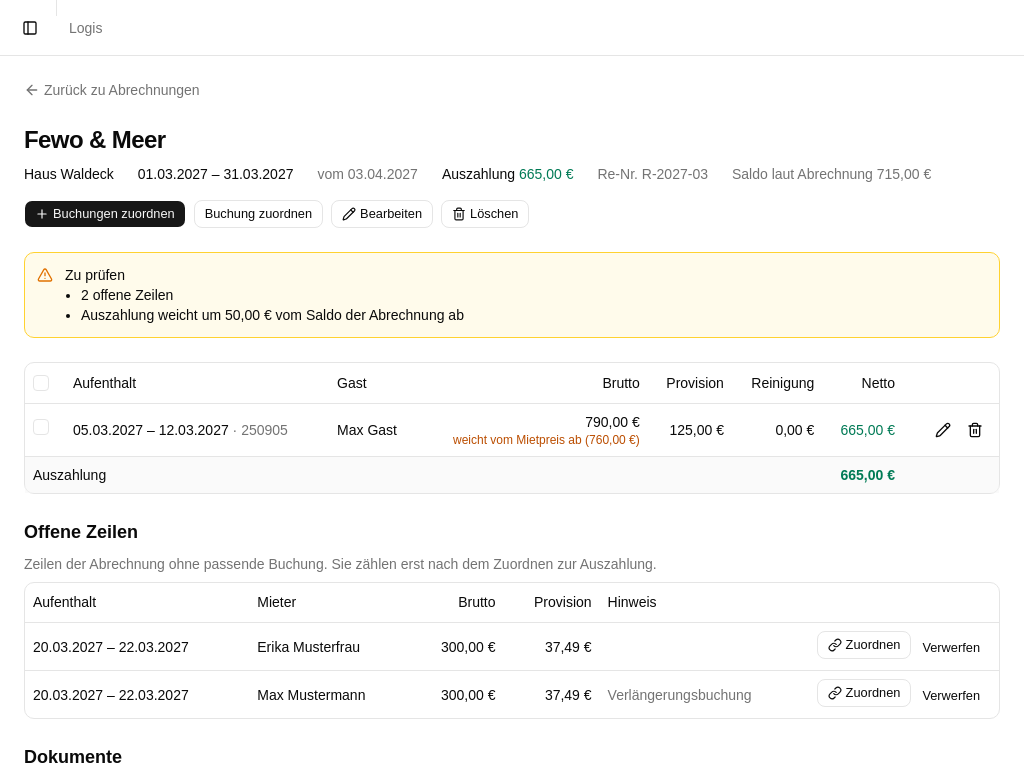
Test: Imported statements › assigns an open line to the booking with its period and discards another
The image size is (1024, 768).
Expected: the text "Verlängerungsbuchung" is shown, [600,671,809,718]
Click the button with aria-label "Erika Musterfrau zuordnen": (864, 645) [817,631,911,659]
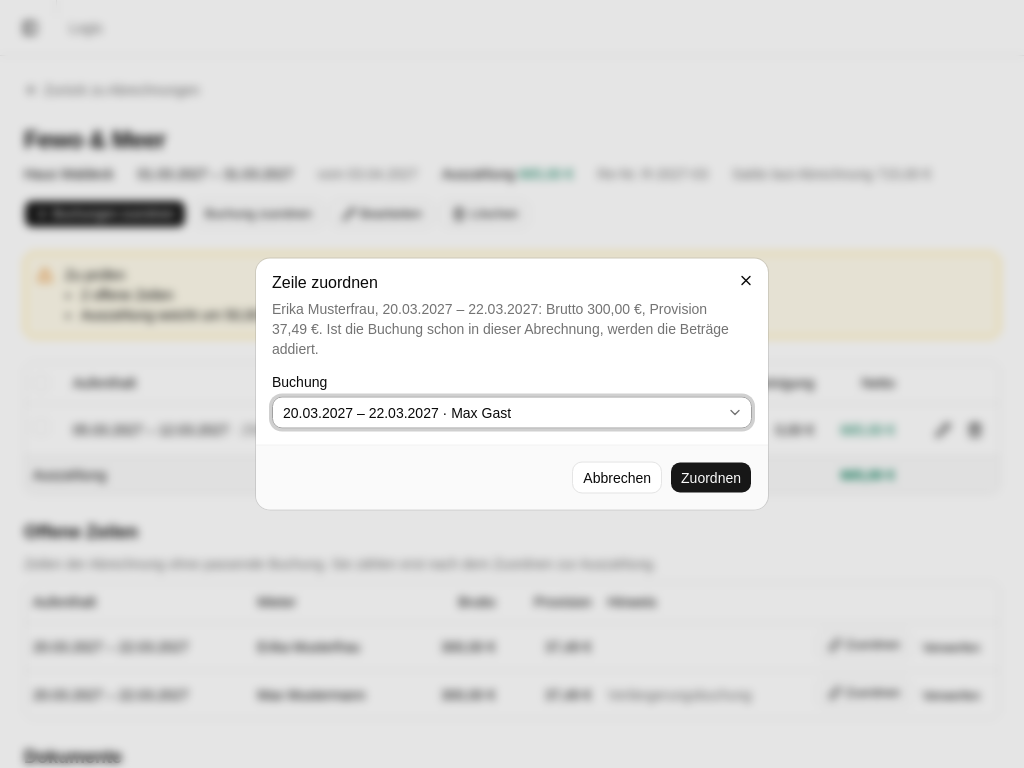
Now the dropdown named "Buchung" shows "20.03.2027 – 22.03.2027"
Click the dropdown named "Buchung": (512, 412) [272,396,752,428]
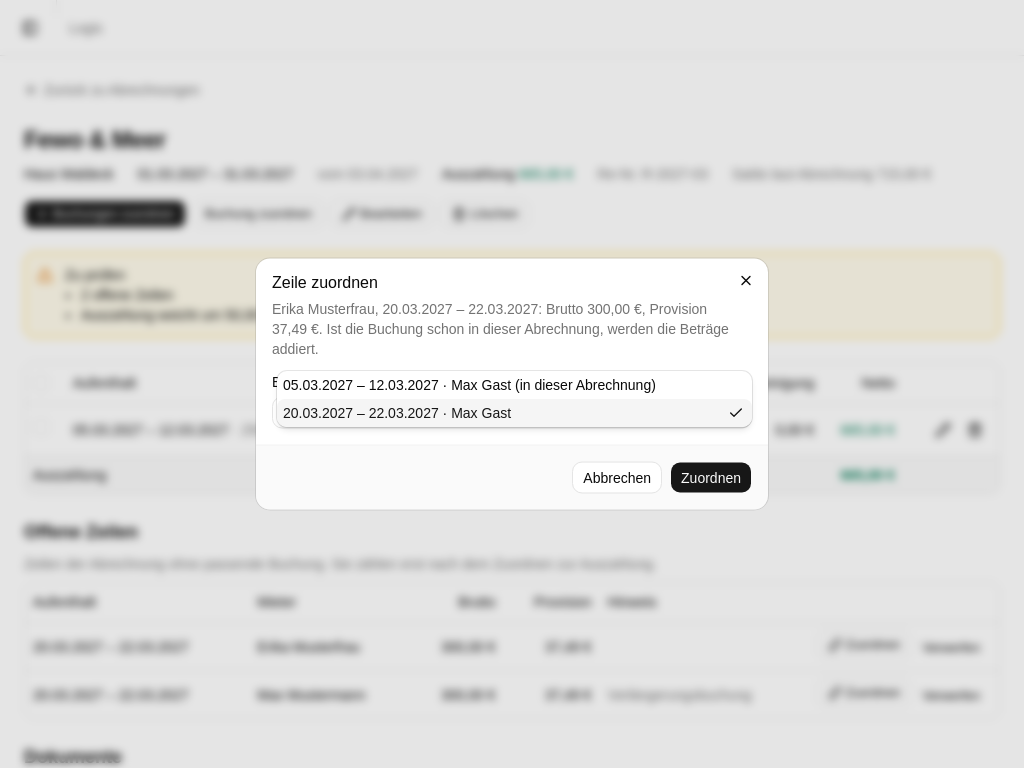
Now the number of options is 2, box [283,376,656,392]; [277,398,752,426]
Press Escape
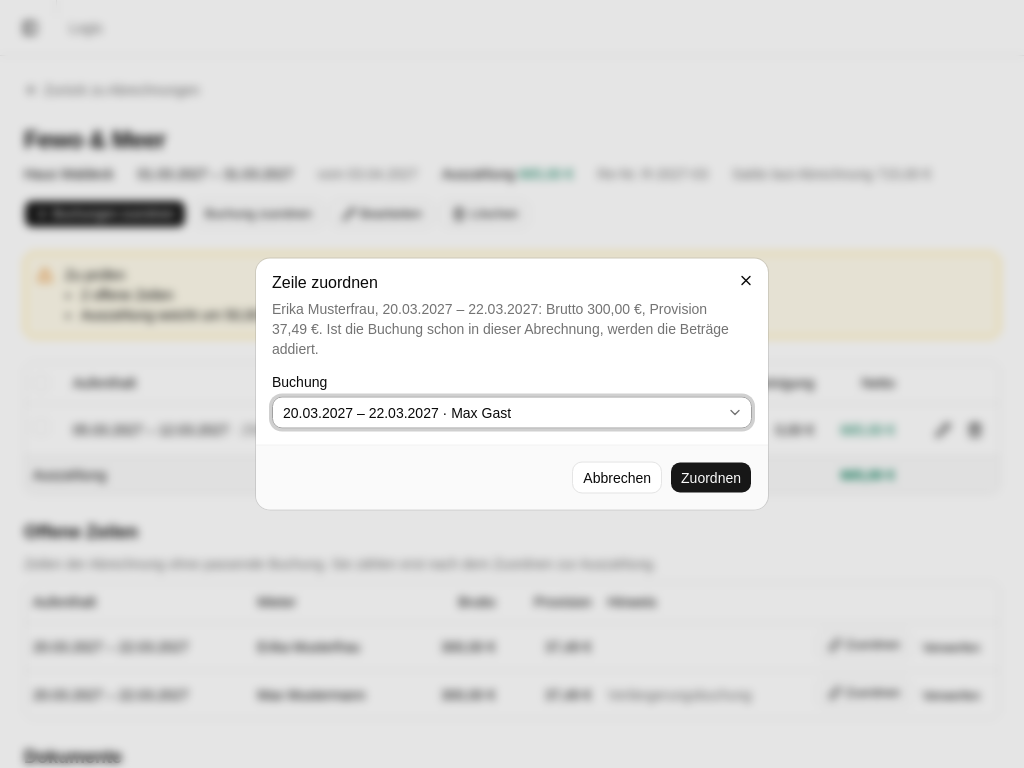
Click the button "Zuordnen": (711, 478) [670,462,752,494]
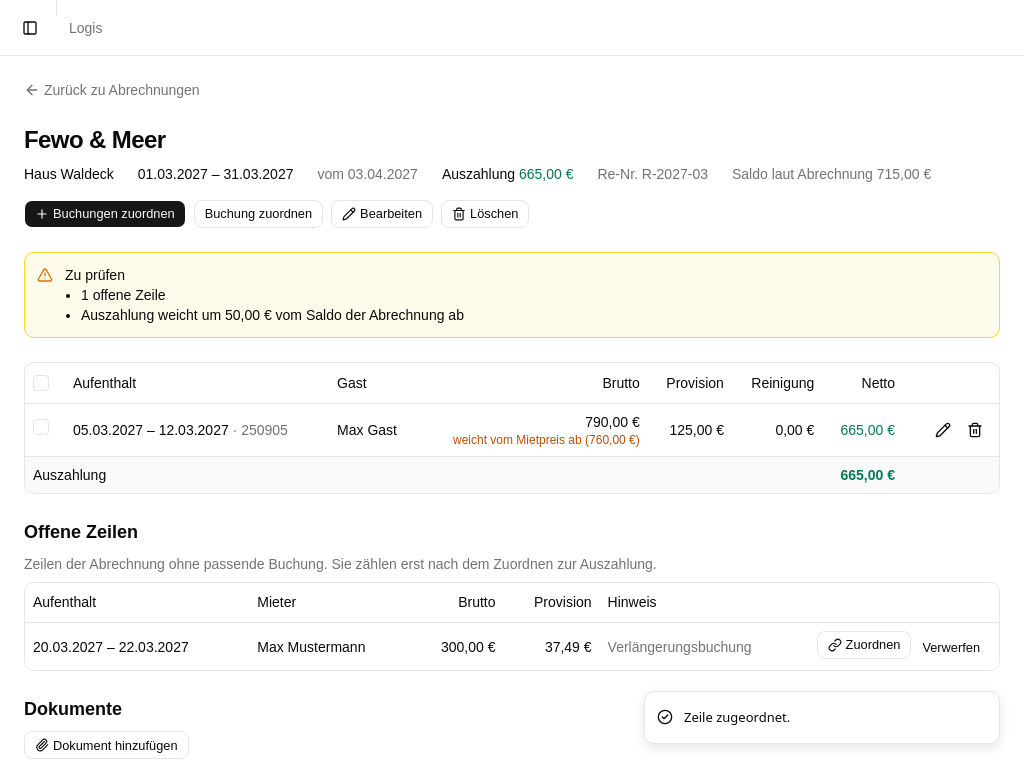
Click the button with aria-label "Max Mustermann verwerfen": (951, 648) [911,634,991,662]
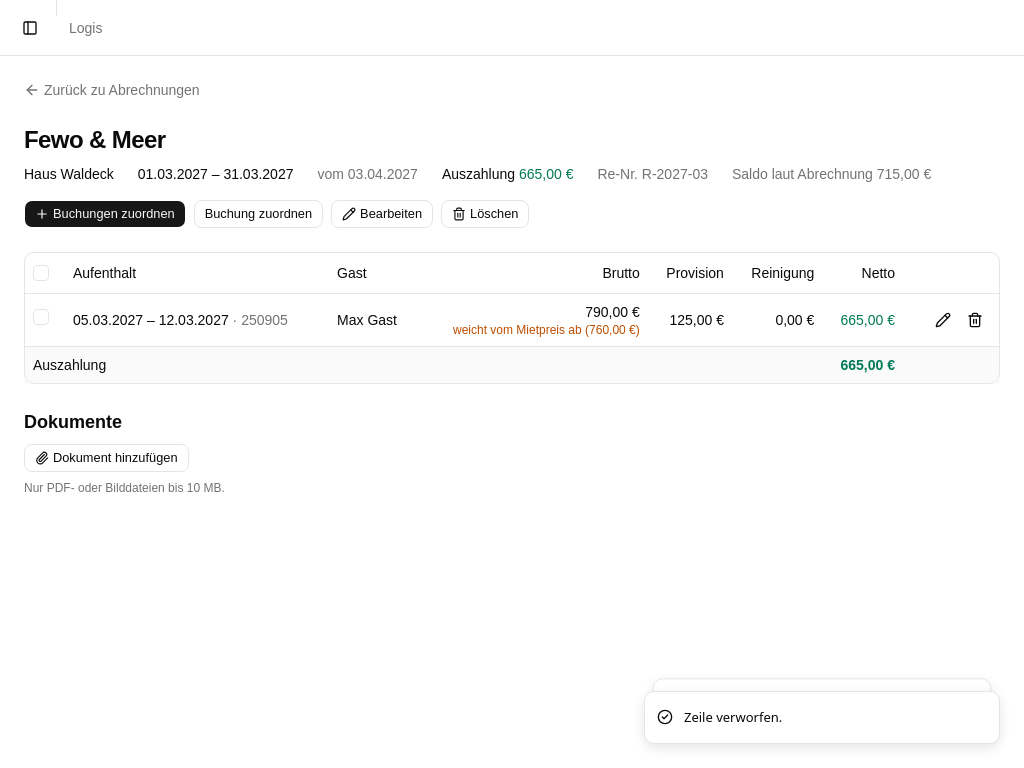
Now the text "Zeile verworfen." is shown, box [684,708,782,727]
Now the heading "Offene Zeilen" is gone
Now the text "Zu prüfen" is gone
